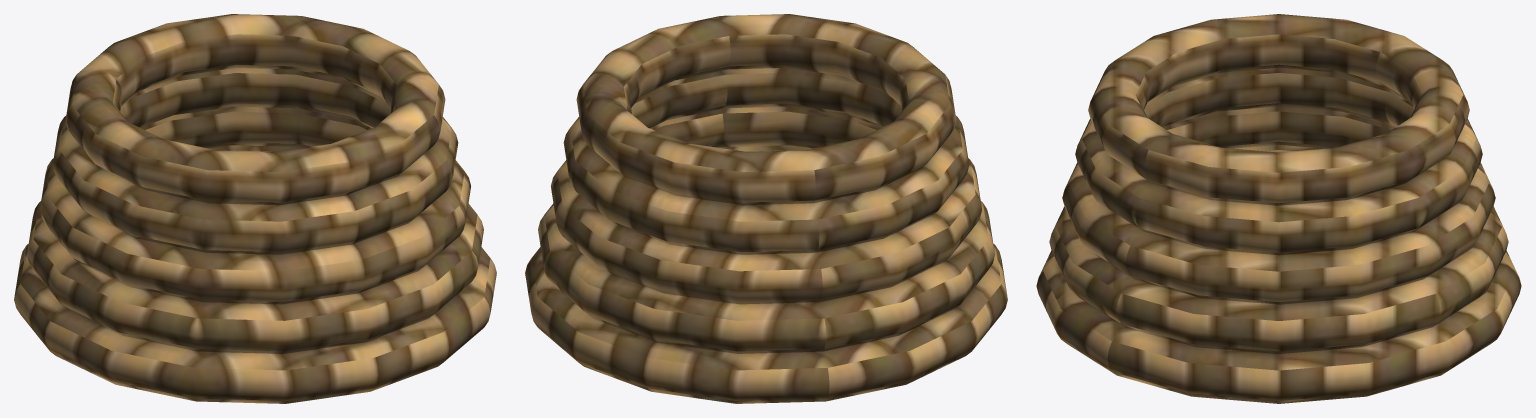
Rendered from p_ropecoil.glb.
3 views of the same model, side by side, from view 1: azimuth 30°, elevation 25°; view 2: azimuth 150°, elevation 25°; view 3: azimuth 270°, elevation 25° (orthographic).
Visible parts, largest first — view 1: ropecoil; view 2: ropecoil; view 3: ropecoil.
Boxes of the visible parts, bbox=[...] form: ropecoil: bbox=[14, 14, 496, 403]; ropecoil: bbox=[525, 14, 1007, 403]; ropecoil: bbox=[1036, 14, 1521, 403].
Bounding box in the file's own units: 0.4501 × 0.2285 × 0.4501.
Materials: 1 (1 with a texture image).
